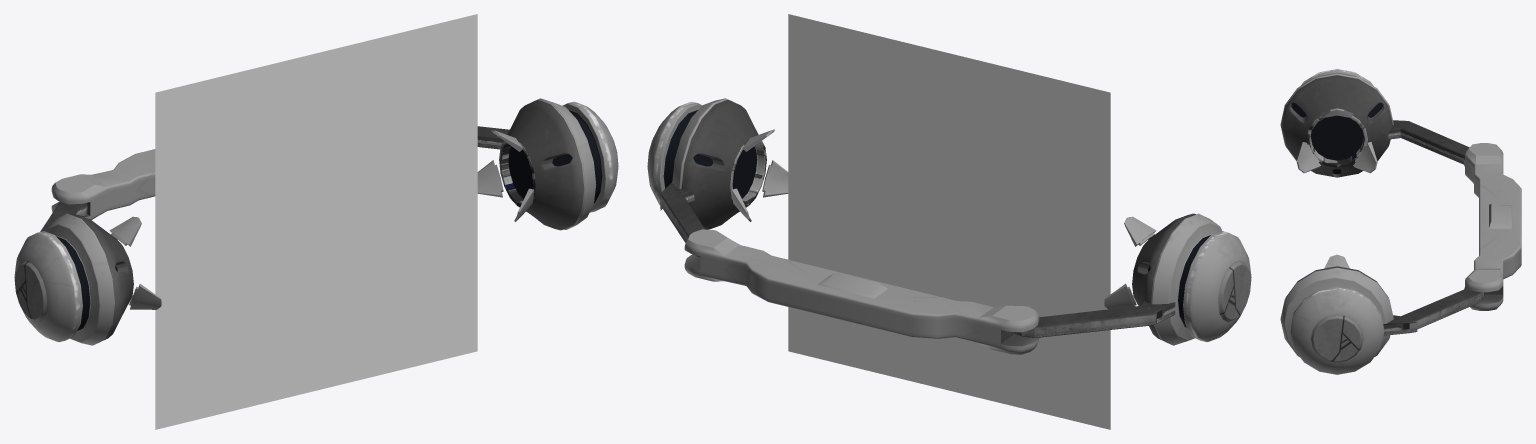
File: FlyingTarget.fbx
The picture shows the model from 3 angles, left to right: view 1: azimuth 30°, elevation 25°; view 2: azimuth 150°, elevation 25°; view 3: azimuth 270°, elevation 25°; orthographic projection. The views are drawn at different scales.
Visible parts, largest first — view 1: targetQuad, FlyingTarget; view 2: targetQuad, FlyingTarget; view 3: FlyingTarget.
Part boxes in pixels (x1,y1,x2,y2): targetQuad: [155, 14, 477, 429]; FlyingTarget: [14, 98, 618, 345]; targetQuad: [788, 14, 1110, 429]; FlyingTarget: [647, 98, 1251, 354]; FlyingTarget: [1280, 69, 1521, 374].
Size of the model in its own units: 0.6935 by 0.3884 by 0.2992.
